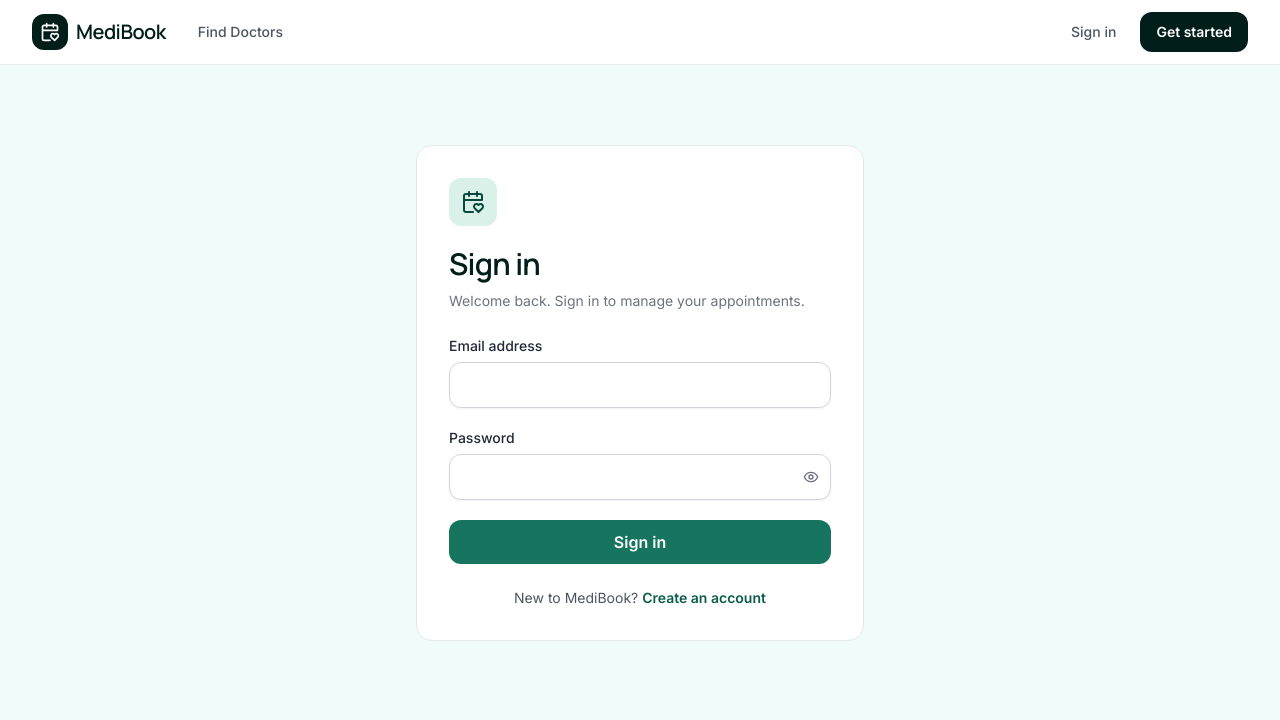
it: Authentication flows with the real provider and route guards › redirects a patient who requested admin access to their own dashboard
Type "patient@example.test" into the field labelled "Email address" at [640, 385], box [449,362,831,408]
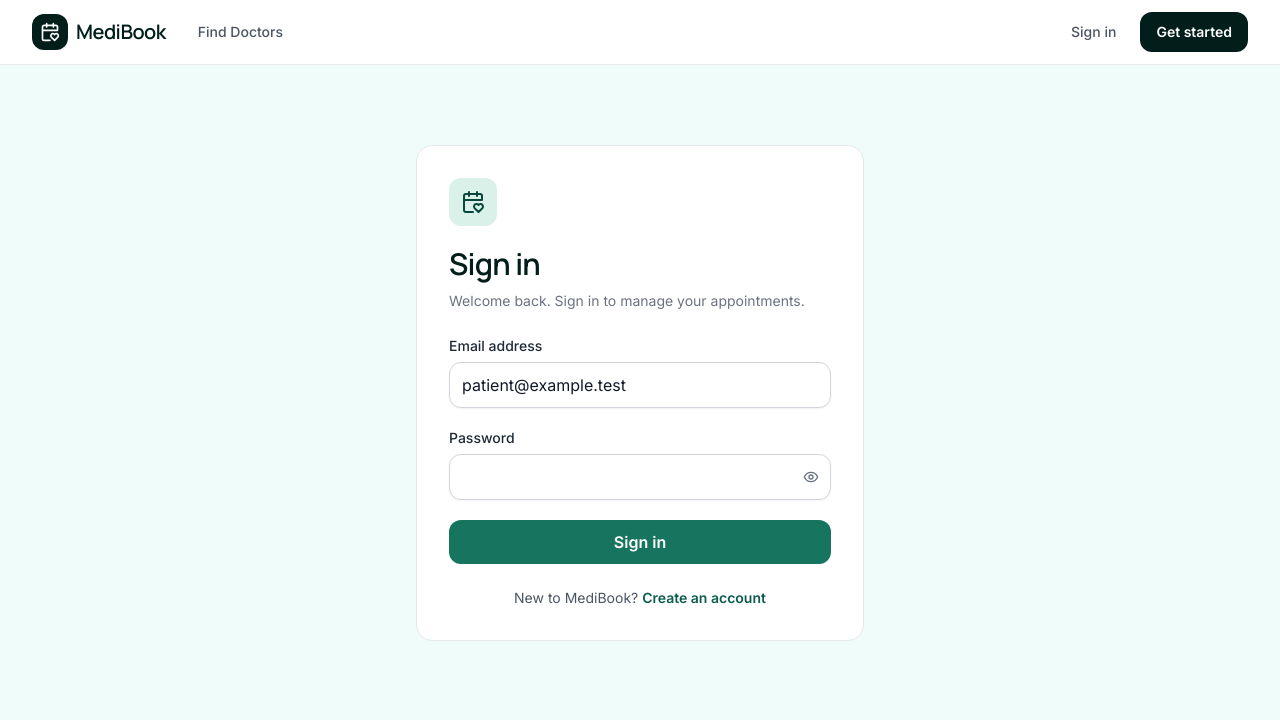
Type "Password1" into the password field labelled "Password" at [640, 477], box [449,454,831,500]
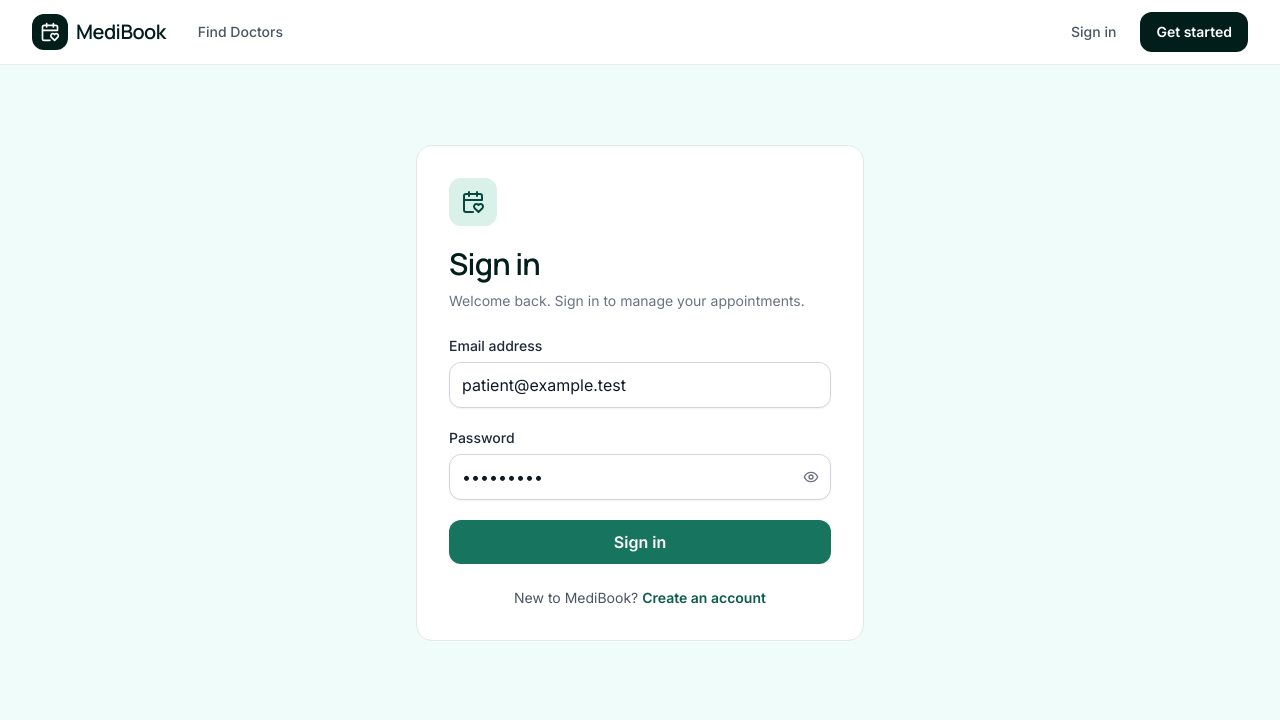
Click the button "Sign in" at [640, 542], box [449,520,831,564]
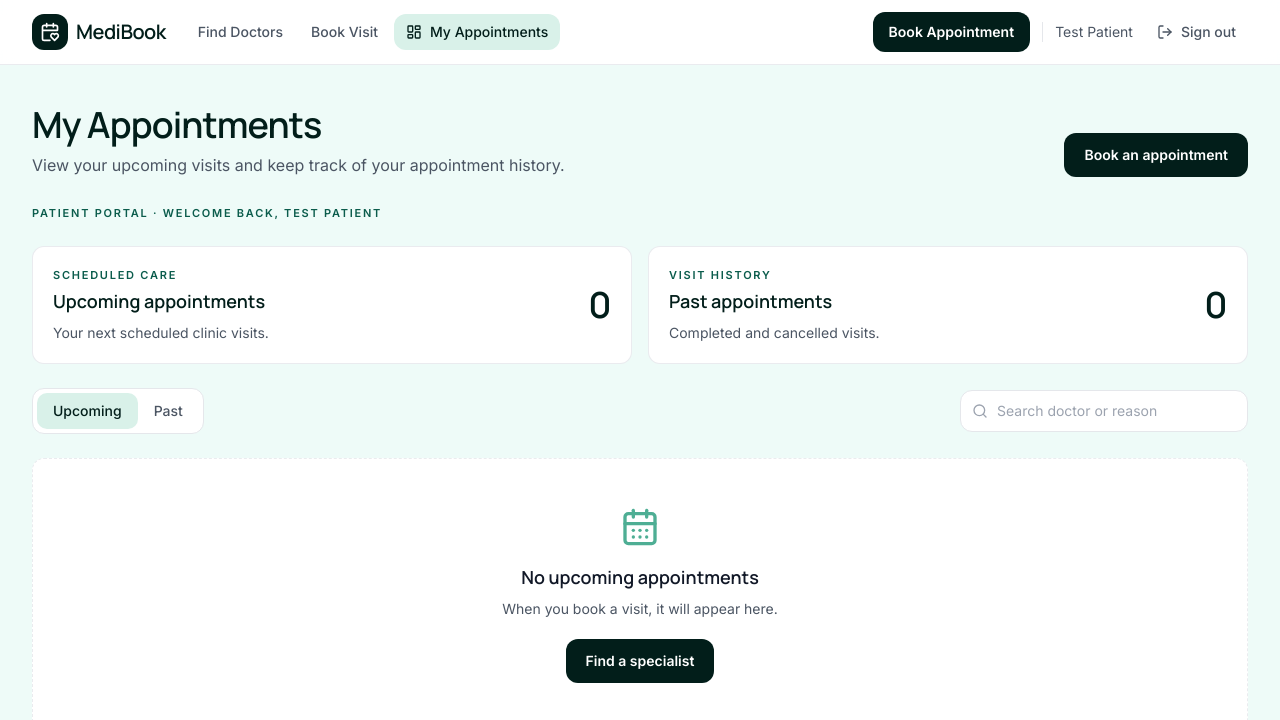
Now the heading "My Appointments" is shown, box [32,100,322,149]
